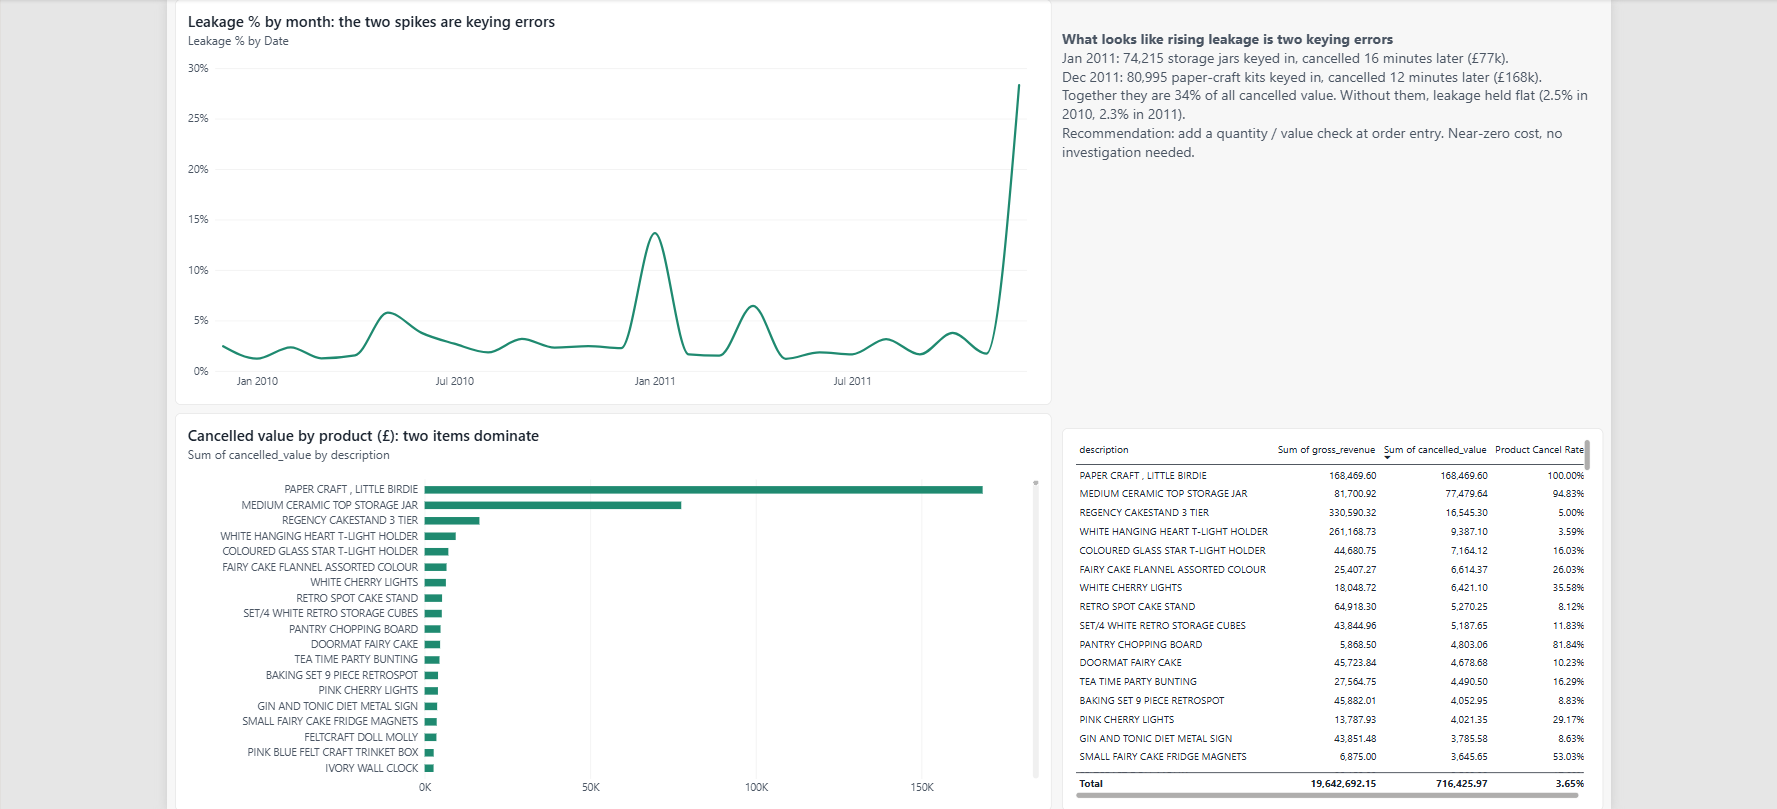

The dashboard page shown, as its layout file describes it:
{"tool":"powerbi","page":{"name":"Leakage","canvas":[1920,1080],"ordinal":1},"visuals":[{"type":"lineChart","title":"Leakage % by month: the two spikes are keying errors","fields":{"Category":["Calendar.Date"],"Y":["gold_monthly_kpis.Leakage %"]},"box":[10.2,0,1165.7,539.8],"z":0},{"type":"textbox","box":[1190,40,720,530],"z":1000},{"type":"clusteredBarChart","title":"Cancelled value by product (£): two items dominate","fields":{"Category":["gold_product_performance.description"],"Y":["Sum(gold_product_performance.cancelled_value)"]},"box":[10,550,1166,530],"z":2000},{"type":"tableEx","fields":{"Values":["gold_product_performance.description","Sum(gold_product_performance.gross_revenue)","Sum(gold_product_performance.cancelled_value)","gold_monthly_kpis.Product Cancel Rate"]},"box":[1190,570,720,510],"z":3000}]}

Visuals, with their boxes on the page's 1920x1080 design canvas (x1, y1, x2, y2). These are canvas units, not pixel positions in the 1777x809 screenshot, which may show the page scaled, cropped or inside an application window:
"Leakage % by month: the two spikes are keying errors" lineChart: rect(10, 0, 1176, 540)
textbox: rect(1190, 40, 1910, 570)
"Cancelled value by product (£): two items dominate" clusteredBarChart: rect(10, 550, 1176, 1080)
tableEx - gold_product_performance.description x Sum(gold_product_performance.gross_revenue): rect(1190, 570, 1910, 1080)
